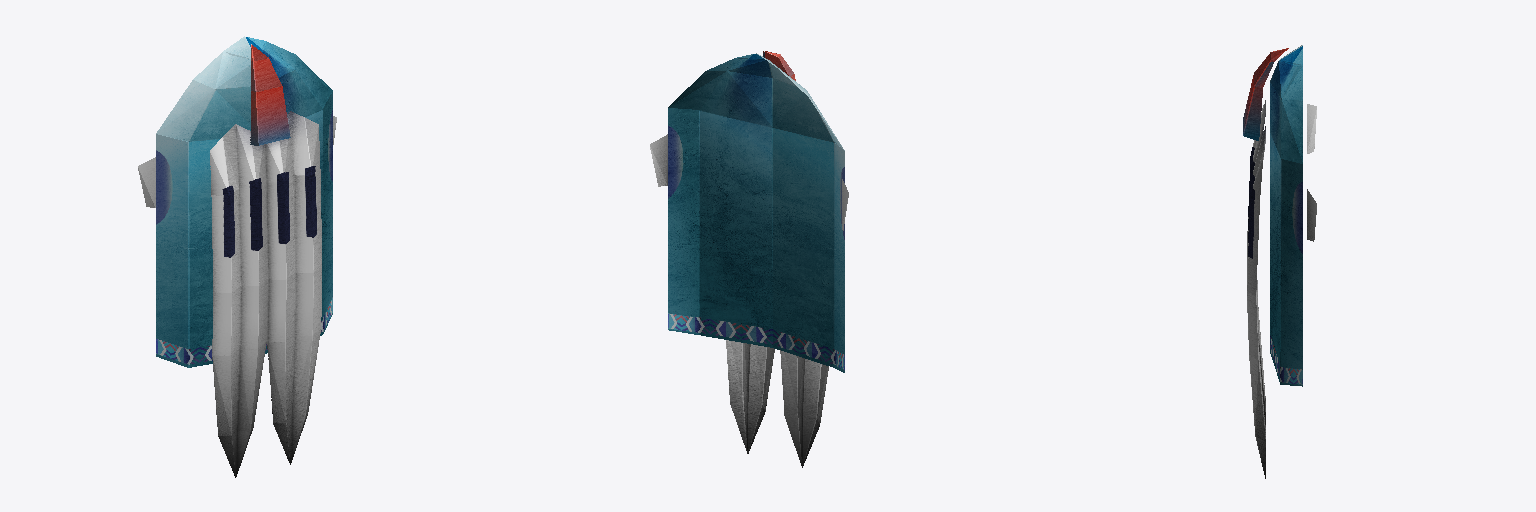
The picture shows the model from 3 angles: view 1: azimuth 30°, elevation 25°; view 2: azimuth 150°, elevation 25°; view 3: azimuth 270°, elevation 25°; orthographic projection.
Visible parts, largest first — view 1: nose, head, nasal_bridge, side_R; view 2: head, nose, side_L; view 3: head, nose, nasal_bridge.
Part boxes in pixels (x1,y1,x2,y2): nose: (210,111,321,477); head: (156,36,332,367); nasal_bridge: (250,44,290,145); side_R: (138,157,155,207); head: (668,53,844,372); nose: (726,340,828,467); side_L: (650,134,667,186); head: (1270,45,1302,386); nose: (1247,100,1265,478); nasal_bridge: (1243,48,1288,140).
Size of the model in its own units: 226 by 457 by 73.19.
Materials: 1 (1 with a texture image).